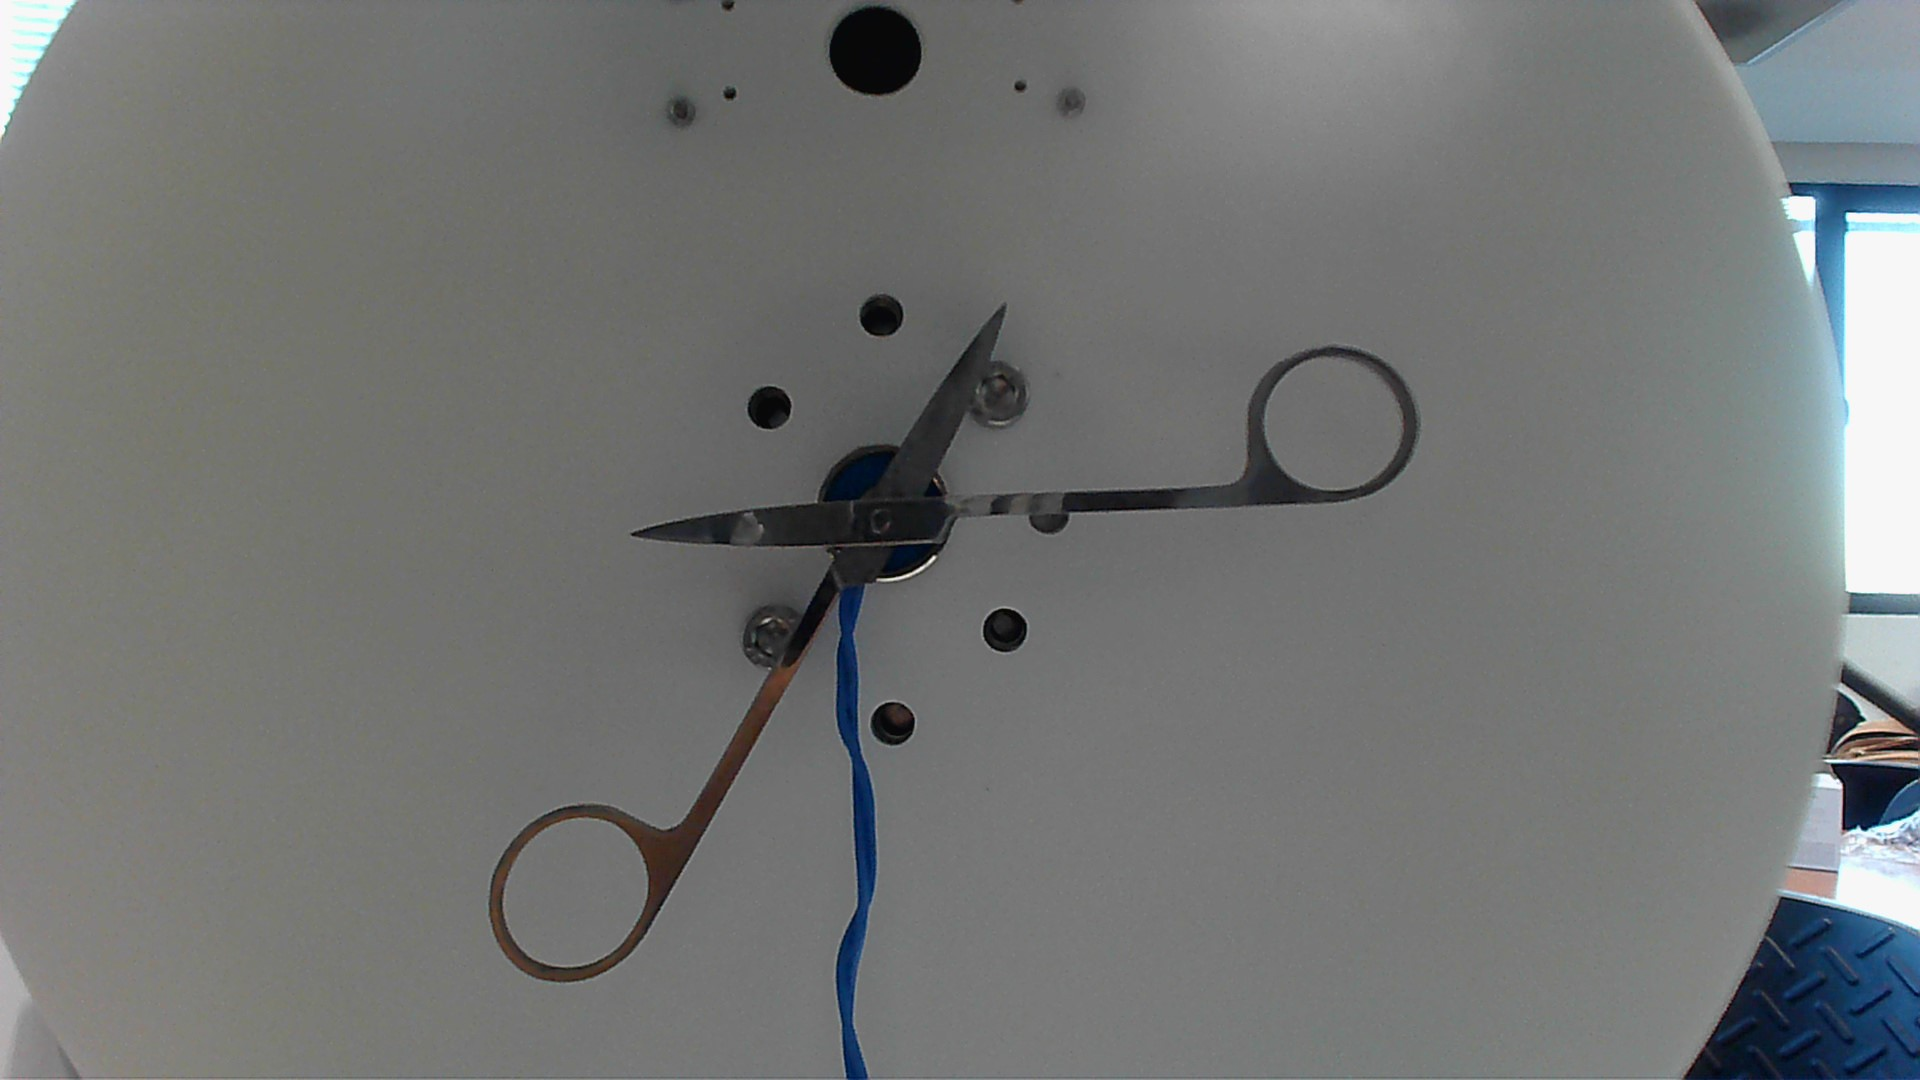Tissues: (727, 505, 770, 549)
